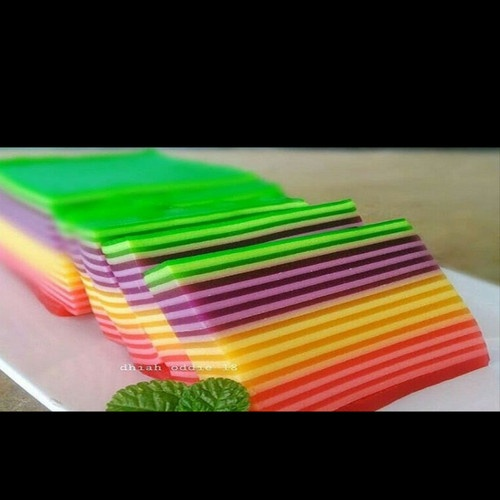kue_lapis_pelangi: (143, 217, 491, 412)
